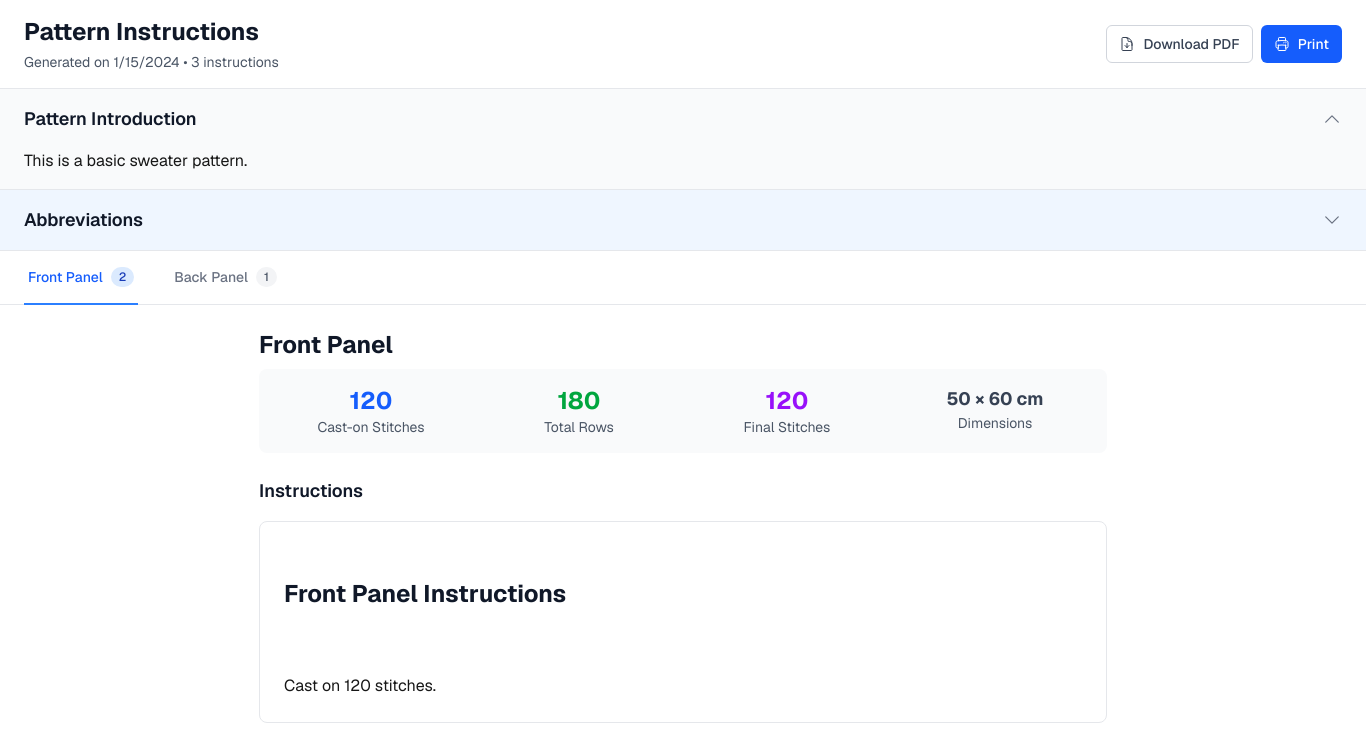
Test: PatternDisplay › Successful Pattern Display › displays abbreviations glossary when available
This screenshot has width=1366, height=748.
Click the button "Abbreviations": click(84, 220) x1=24 y1=206 x2=1342 y2=234
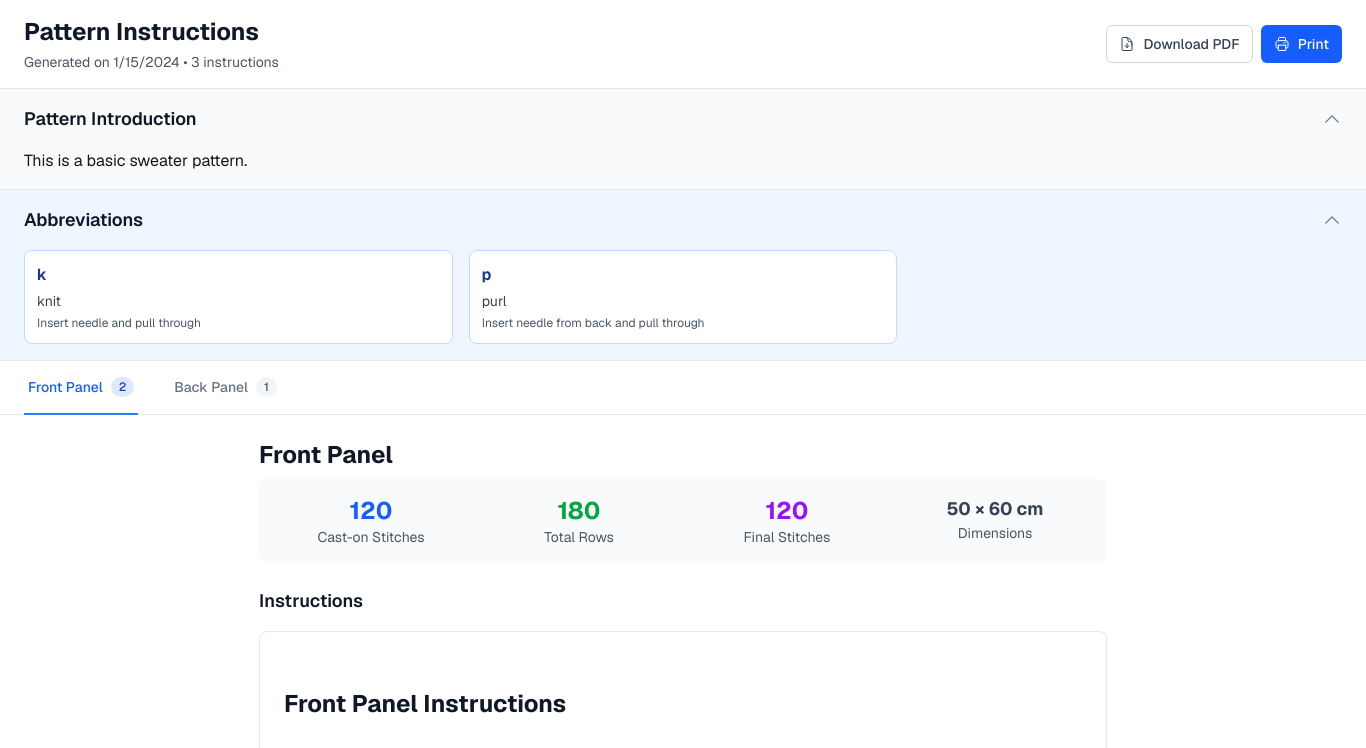
Now the text "k" is shown, box x1=37 y1=264 x2=47 y2=285
Now the text "knit" is shown, box x1=37 y1=292 x2=61 y2=310
Now the text "p" is shown, box x1=482 y1=264 x2=491 y2=285
